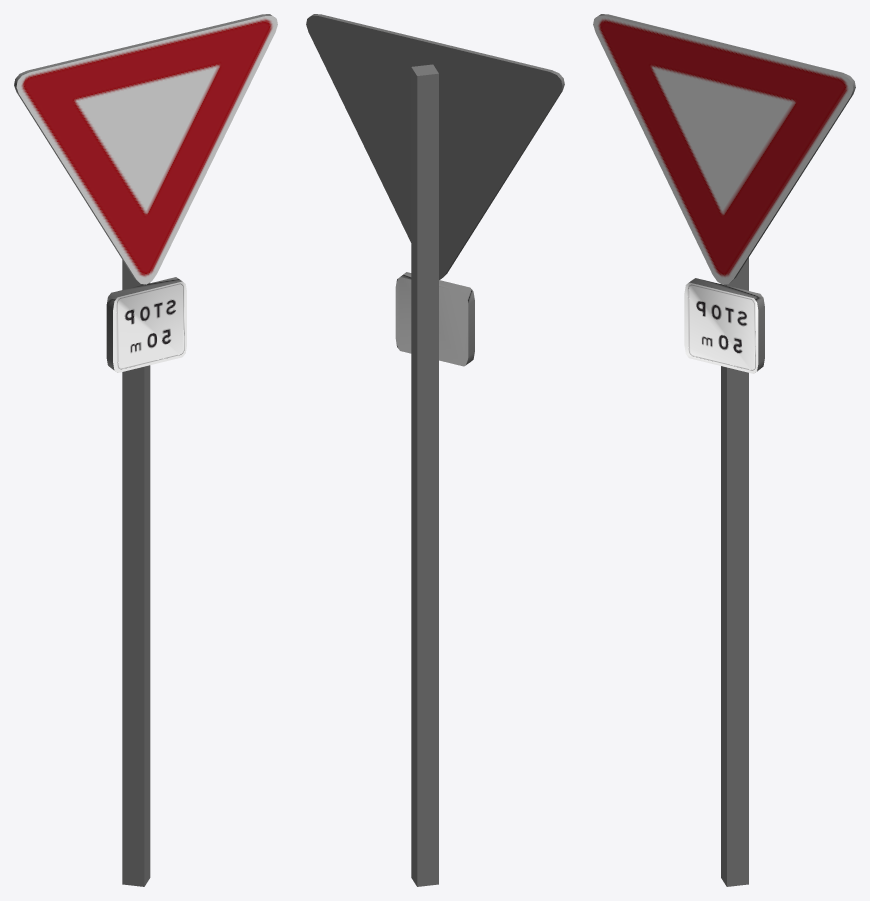
The model's file is Stop50m.obj.
3 renders of one model, left to right at view 1: azimuth 30°, elevation 25°; view 2: azimuth 150°, elevation 25°; view 3: azimuth 330°, elevation 25°, orthographic.
Parts seen in each view (by area): view 1: Sign_Yield_50m_Sign_Yield.002; view 2: Sign_Yield_50m_Sign_Yield.002; view 3: Sign_Yield_50m_Sign_Yield.002.
Boxes of the visible parts, bbox=[...] form: Sign_Yield_50m_Sign_Yield.002: bbox=[14, 14, 277, 886]; Sign_Yield_50m_Sign_Yield.002: bbox=[306, 14, 564, 886]; Sign_Yield_50m_Sign_Yield.002: bbox=[593, 14, 855, 886].
Bounding box in the file's own units: 1.47 × 4.55 × 0.2128.
Materials: 2 (2 with a texture image).
